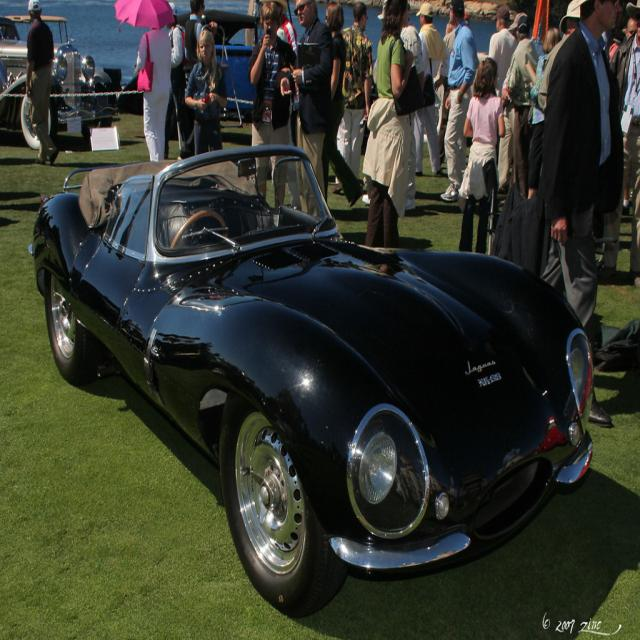car: (32, 140, 594, 615)
